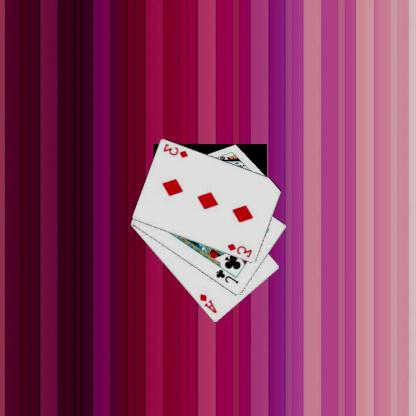3D: (227, 241, 255, 259), (163, 141, 191, 159)
AD: (199, 292, 220, 315)
JC: (215, 267, 242, 285)
